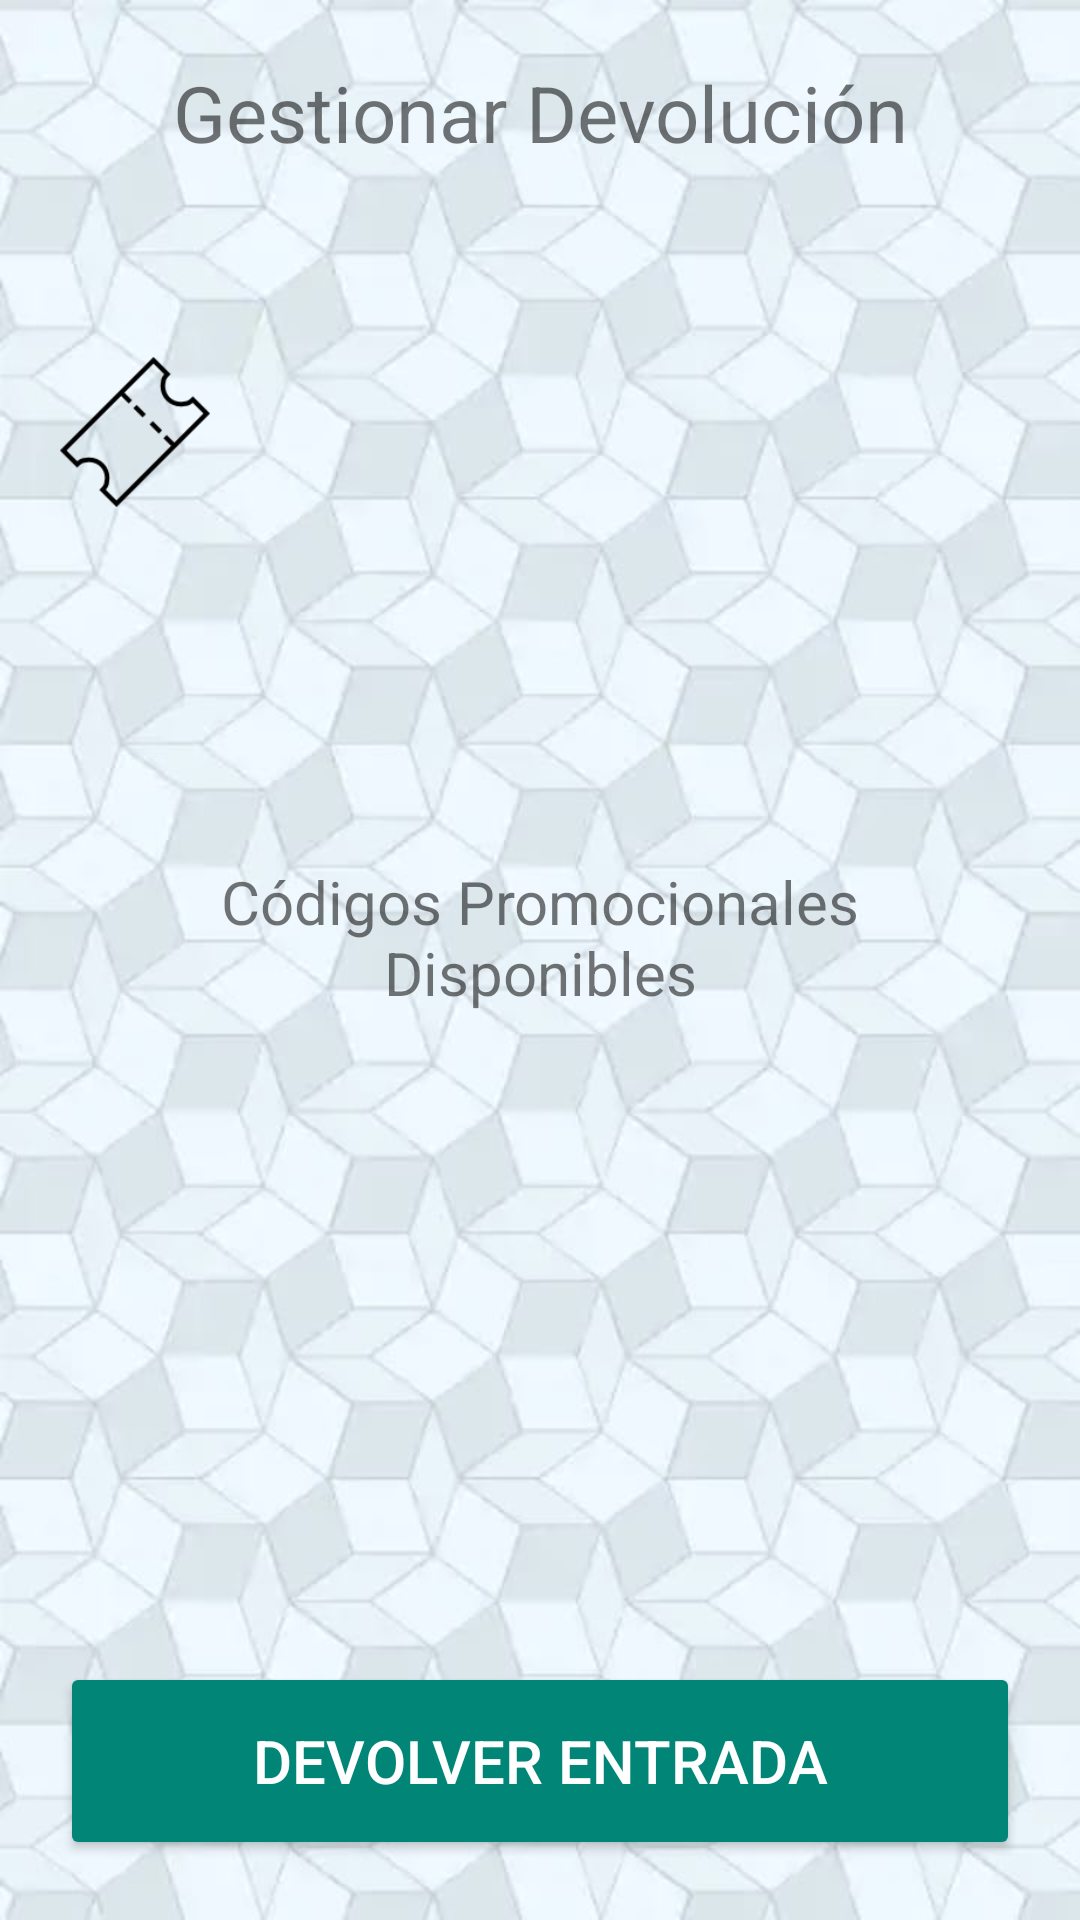

Screen size 1080w x 1920h. Icon name, then its center in pixels as (x=x, y=y):
ticket: (x=162, y=417)
